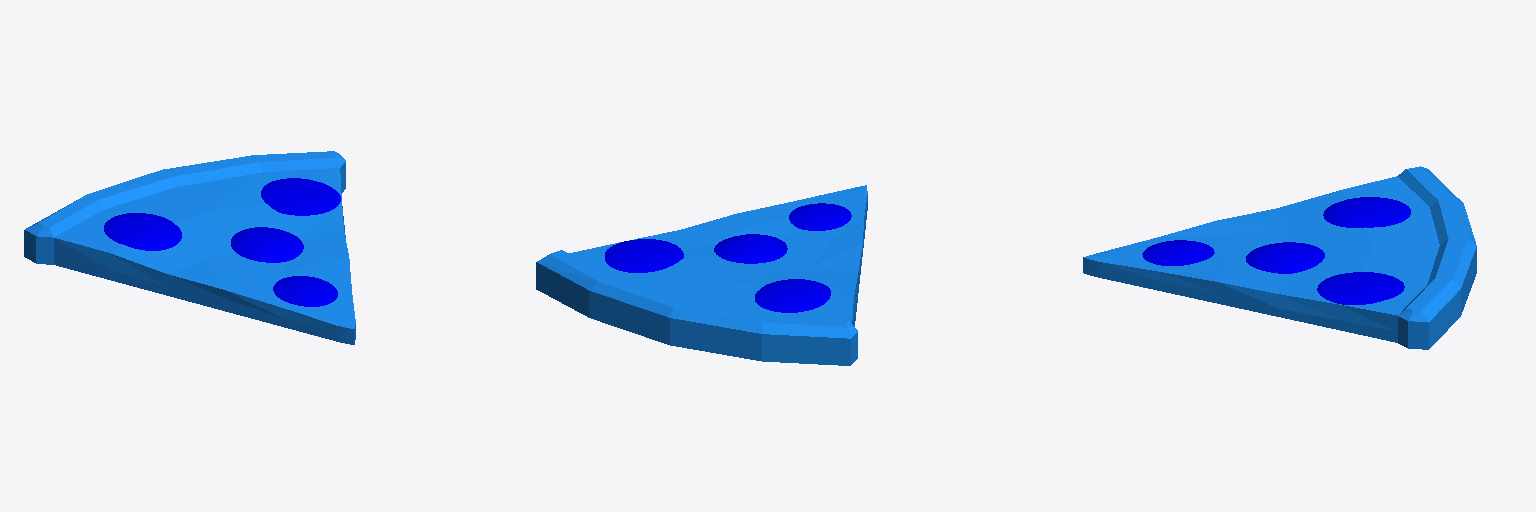
File: BlueSlice.obj
3 renders of one model, left to right at view 1: azimuth 30°, elevation 25°; view 2: azimuth 150°, elevation 25°; view 3: azimuth 270°, elevation 25°, orthographic.
Parts seen in each view (by area): view 1: Pizza_Slice_Cube.003; view 2: Pizza_Slice_Cube.003; view 3: Pizza_Slice_Cube.003.
Part boxes in pixels (bbox=[...]): Pizza_Slice_Cube.003: bbox=[24, 151, 355, 344]; Pizza_Slice_Cube.003: bbox=[536, 185, 867, 365]; Pizza_Slice_Cube.003: bbox=[1083, 166, 1476, 349].
Size of the model in its own units: 1.07 by 0.1128 by 1.16.